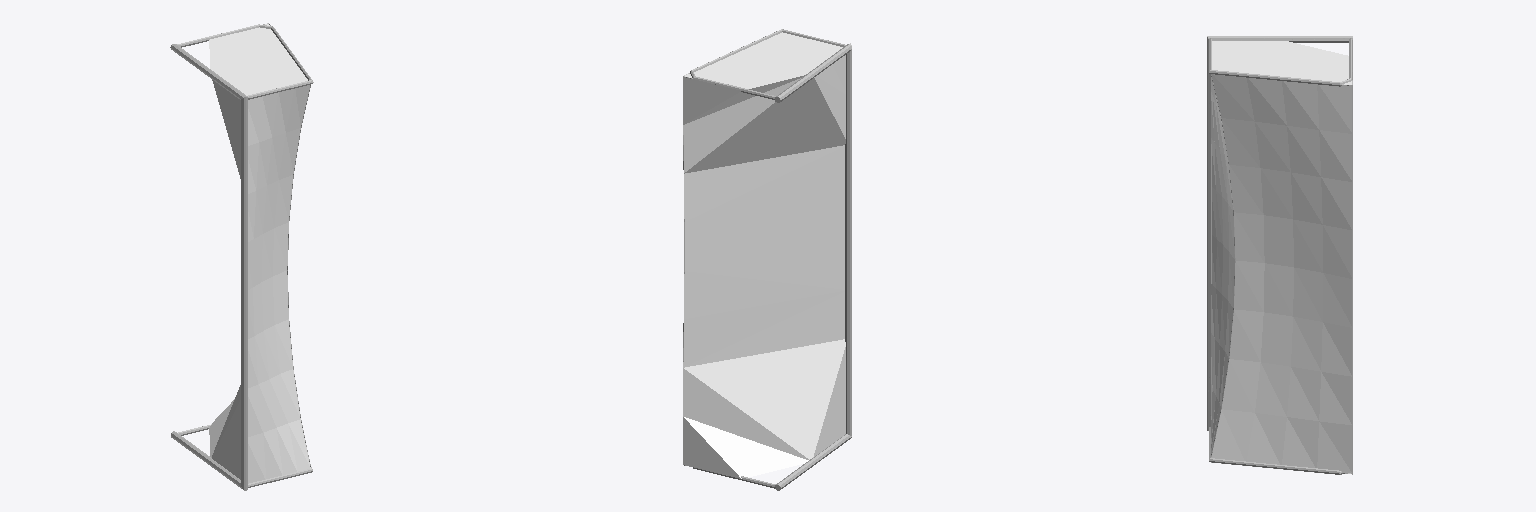
The model's file is football-goal.obj.
3 renders of one model, left to right at view 1: azimuth 30°, elevation 25°; view 2: azimuth 150°, elevation 25°; view 3: azimuth 270°, elevation 25°, orthographic.
Parts seen in each view (by area): view 1: Object.1, Object.2; view 2: Object.1, Object.2; view 3: Object.1, Object.2.
Boxes of the visible parts, x1,y1,x2,y2 form: Object.1: [209, 24, 310, 483]; Object.2: [170, 23, 313, 490]; Object.1: [683, 32, 845, 478]; Object.2: [683, 29, 851, 490]; Object.1: [1211, 41, 1351, 473]; Object.2: [1207, 36, 1352, 474].
Size of the model in its own units: 1886584 by 7224622 by 2415865.